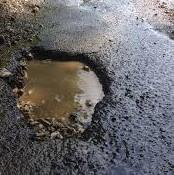pothole: (10, 34, 112, 138)
